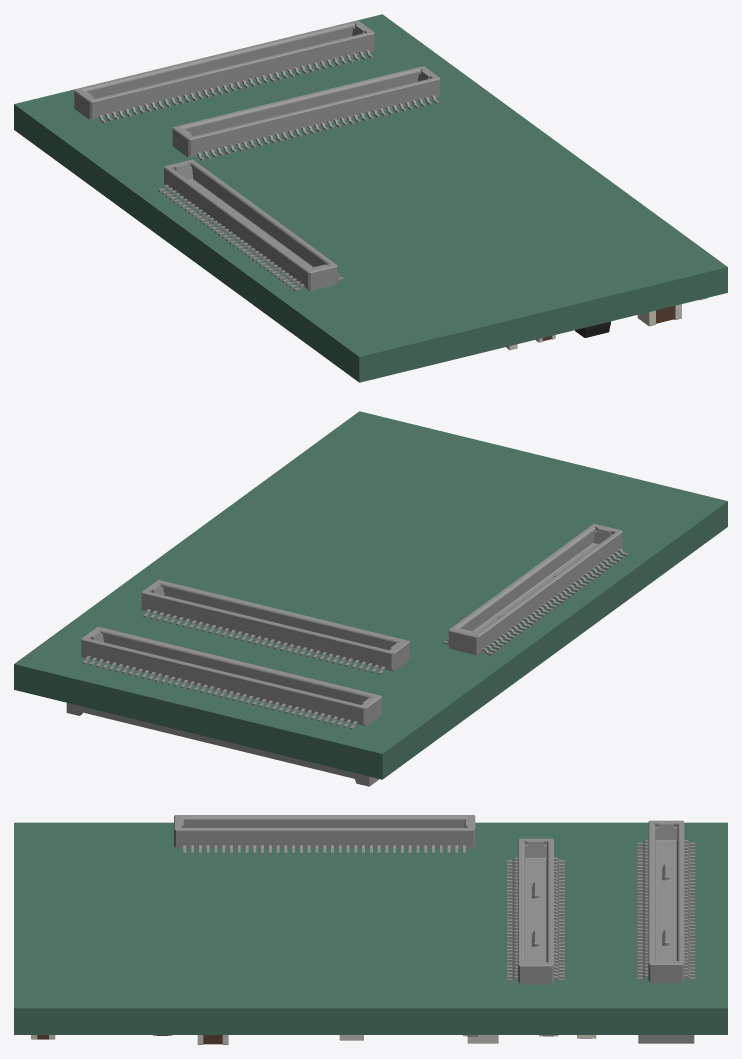
Rendered from fpga-ldo-a-v9.glb.
3 renders of one model, top to bottom at view 1: azimuth 30°, elevation 25°; view 2: azimuth 150°, elevation 25°; view 3: azimuth 270°, elevation 25°, orthographic. The views are drawn at different scales.
Parts seen in each view (by area): view 1: =>[0:1:1:38], =>[0:1:1:3] (×2), =>[0:1:1:5]; view 2: =>[0:1:1:38], =>[0:1:1:3] (×2), =>[0:1:1:5], =>[0:1:1:35]; view 3: =>[0:1:1:38], =>[0:1:1:3] (×2), =>[0:1:1:5], =>[0:1:1:35].
Boxes of the visible parts, x1,y1,x2,y2 form: =>[0:1:1:38]: (14,14,727,382); =>[0:1:1:3] (×2): (158,66,440,291); =>[0:1:1:5]: (74,20,374,123); =>[0:1:1:38]: (14,411,727,779); =>[0:1:1:3] (×2): (141,523,628,674); =>[0:1:1:5]: (81,626,381,729); =>[0:1:1:35]: (66,703,379,786); =>[0:1:1:38]: (14,822,727,1034); =>[0:1:1:3] (×2): (174,815,564,984); =>[0:1:1:5]: (637,820,695,983); =>[0:1:1:35]: (638,1035,694,1043).
Size of the model in its own units: 0.0226 by 0.00442 by 0.0368.
